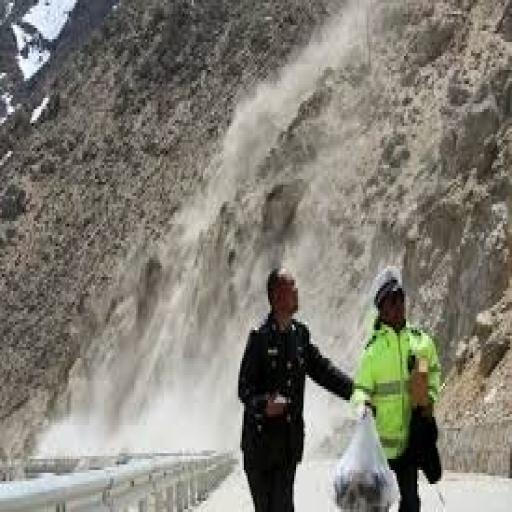running: (235, 263, 361, 509), (348, 263, 447, 509)
